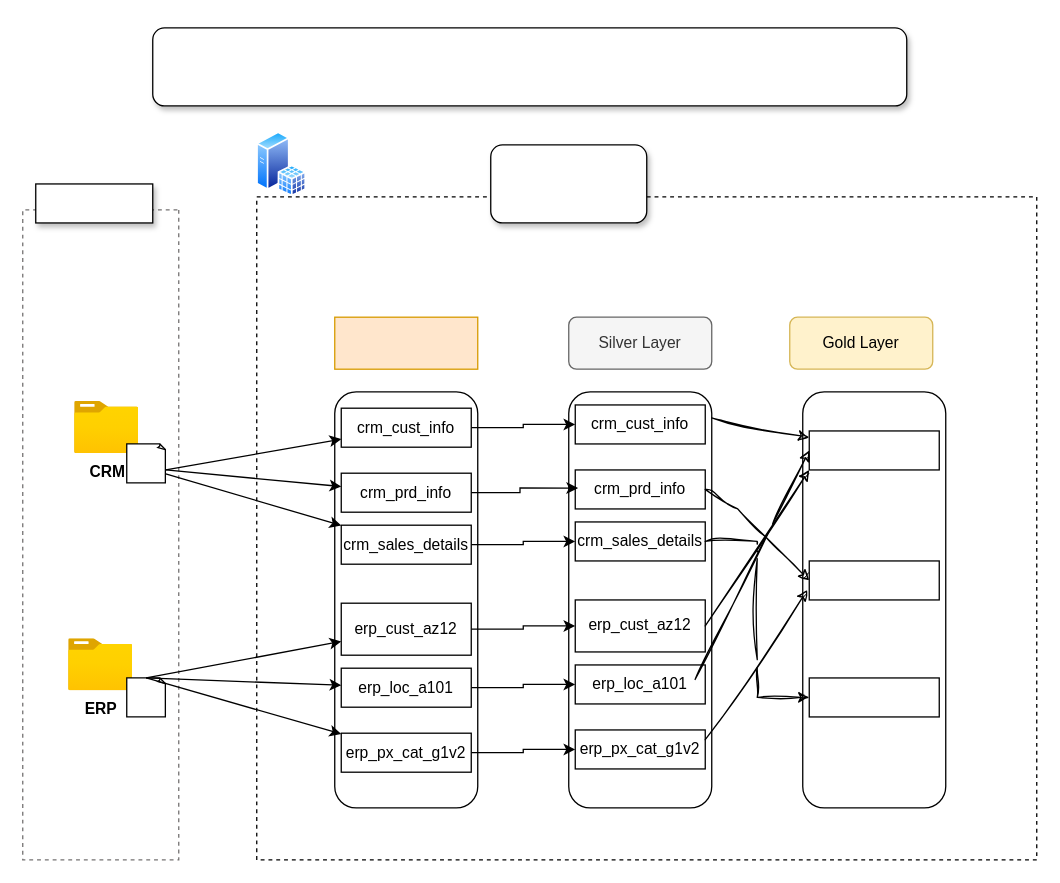
This 1060x883 diagram has some shape labels left out. Each missing label, with the centre of its shape:
Bronze Layer: (405,342)
Data Flow Diagram: (530,68)
Data Warehouse: (569,185)
dim_customer: (873,450)
dim_product: (873,580)
fact_sales: (873,697)
Sources: (95,204)
